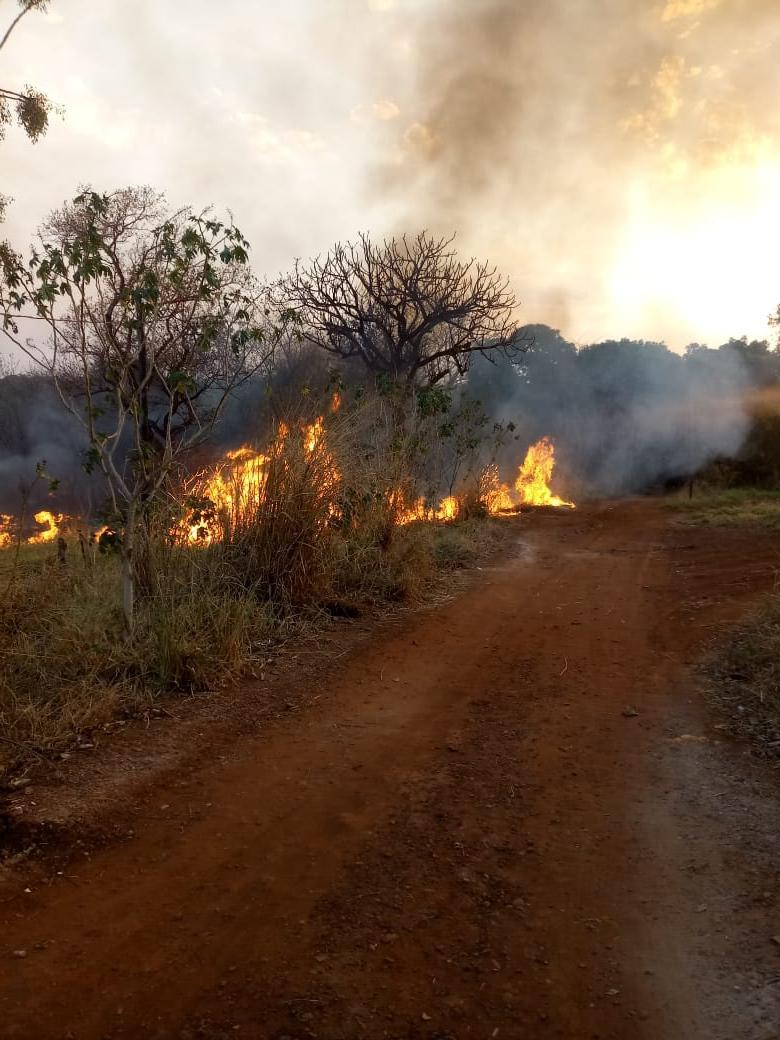Fire: (171, 412, 342, 546), (481, 441, 562, 522), (385, 487, 461, 526), (31, 510, 75, 546)
